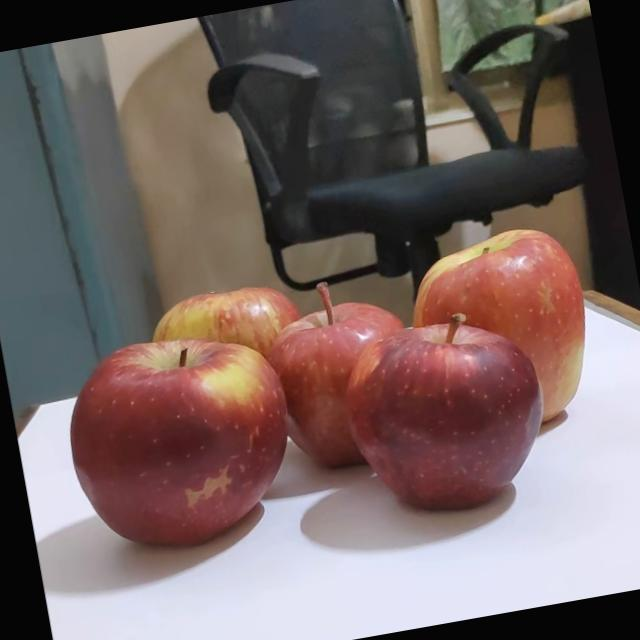apple: (66, 315, 328, 563), (351, 306, 574, 520), (416, 218, 617, 444), (265, 268, 447, 478), (137, 262, 328, 416)
